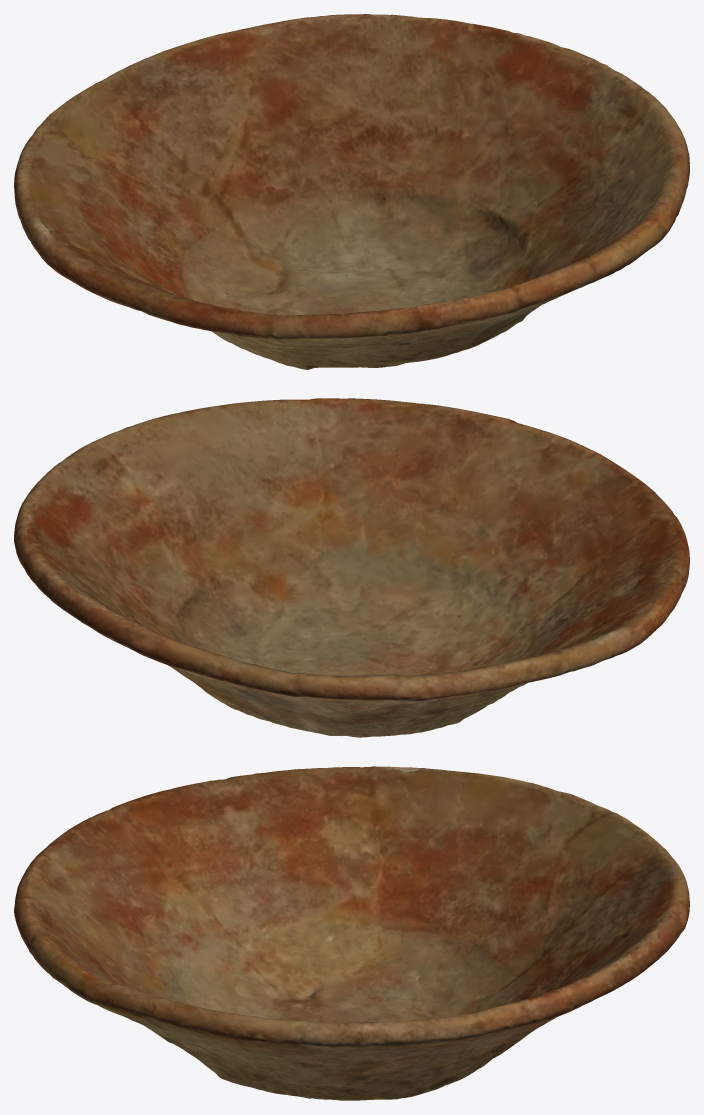
3 views of the same model, one above another, from view 1: azimuth 30°, elevation 25°; view 2: azimuth 150°, elevation 25°; view 3: azimuth 270°, elevation 25° (orthographic).
Visible parts, largest first — view 1: Mesh_0.008; view 2: Mesh_0.008; view 3: Mesh_0.008.
Boxes of the visible parts, x1=… form: Mesh_0.008: x1=14, y1=14, x2=689, y2=369; Mesh_0.008: x1=14, y1=398, x2=689, y2=737; Mesh_0.008: x1=14, y1=766, x2=689, y2=1100.
Size of the model in its own units: 0.2311 by 0.0614 by 0.2263.
Materials: 1 (1 with a texture image).
